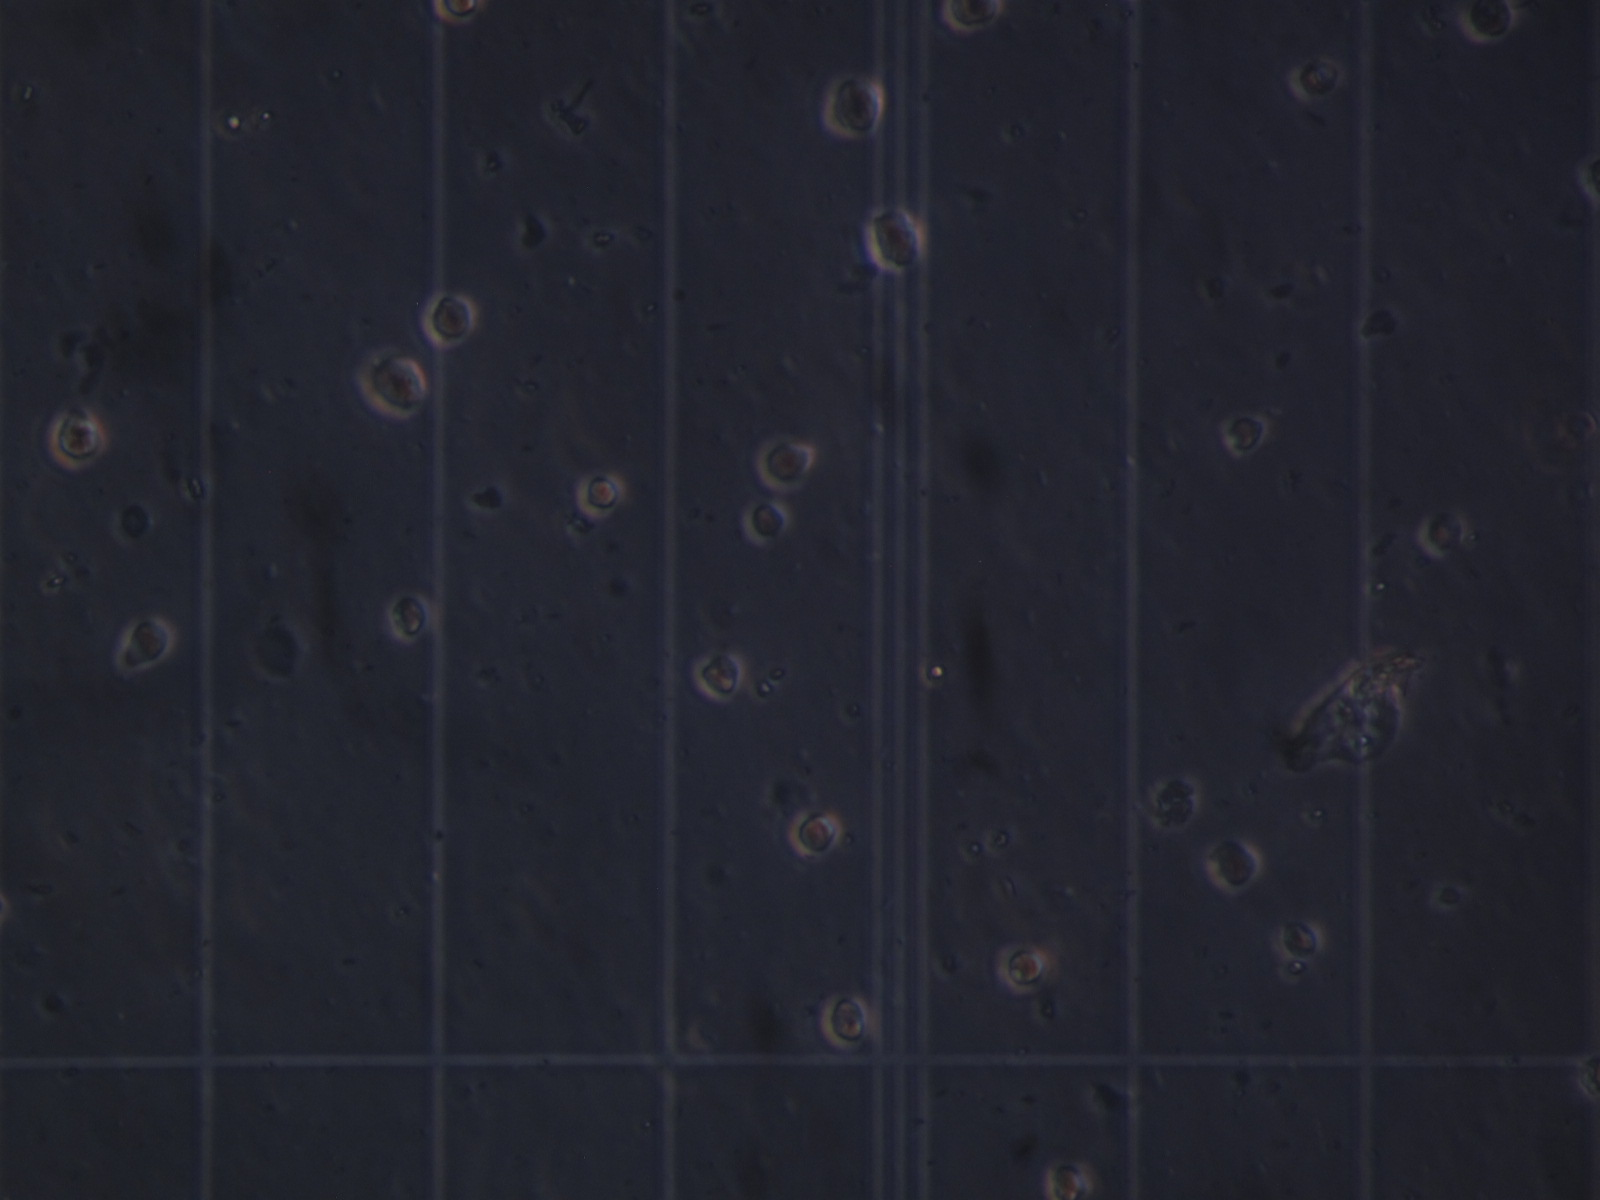hemo: (358, 349, 428, 421), (819, 71, 886, 141), (866, 202, 926, 272), (47, 408, 108, 471), (753, 435, 816, 494), (420, 291, 475, 347), (819, 993, 871, 1053), (1208, 841, 1264, 892), (787, 808, 842, 858), (1150, 775, 1199, 829), (1455, 1, 1517, 44), (693, 653, 745, 702), (1288, 55, 1342, 102), (123, 616, 173, 666), (1000, 943, 1048, 993), (574, 471, 626, 518), (937, 1, 1007, 35), (745, 499, 791, 550), (387, 591, 432, 643), (1220, 410, 1267, 458), (1419, 508, 1465, 556), (1277, 918, 1323, 962), (1044, 1162, 1092, 1200), (431, 1, 488, 26)
